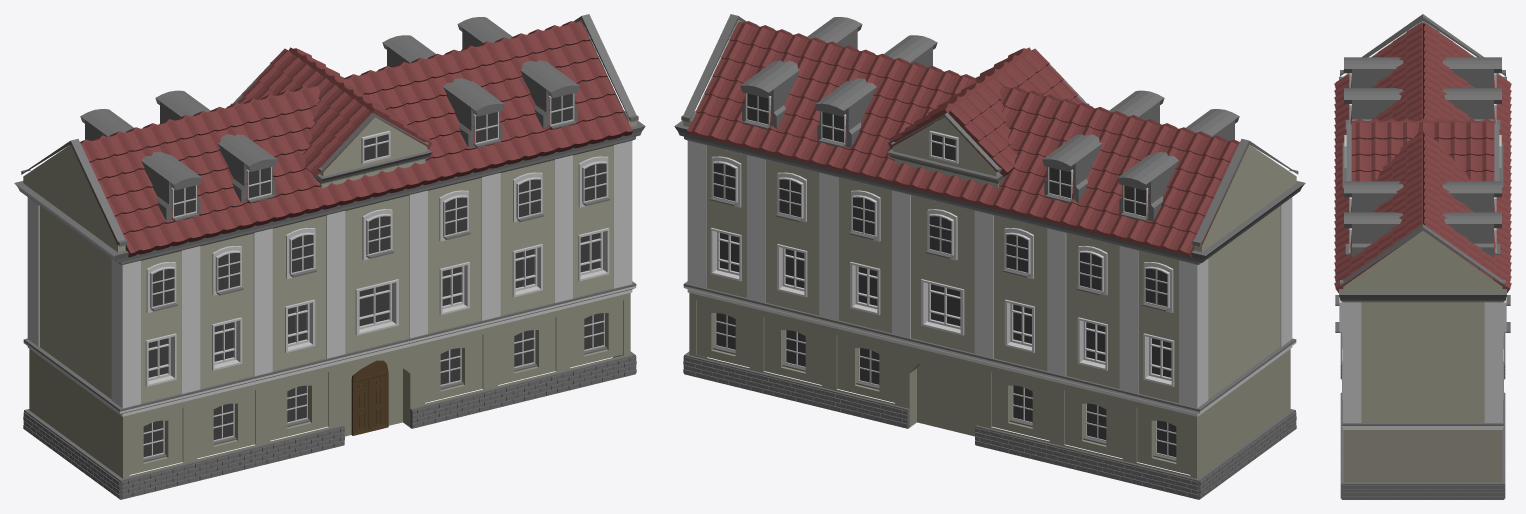
The model's file is Building1_Large.glb.
3 renders of one model, left to right at view 1: azimuth 30°, elevation 25°; view 2: azimuth 150°, elevation 25°; view 3: azimuth 270°, elevation 25°, orthographic. The views are drawn at different scales.
Visible parts, largest first — view 1: Building1_Large; view 2: Building1_Large; view 3: Building1_Large.
Boxes of the visible parts, bbox=[...] form: Building1_Large: bbox=[14, 14, 645, 499]; Building1_Large: bbox=[674, 14, 1305, 499]; Building1_Large: bbox=[1334, 14, 1511, 499].
Bounding box in the file's own units: 799 × 467 × 274.
